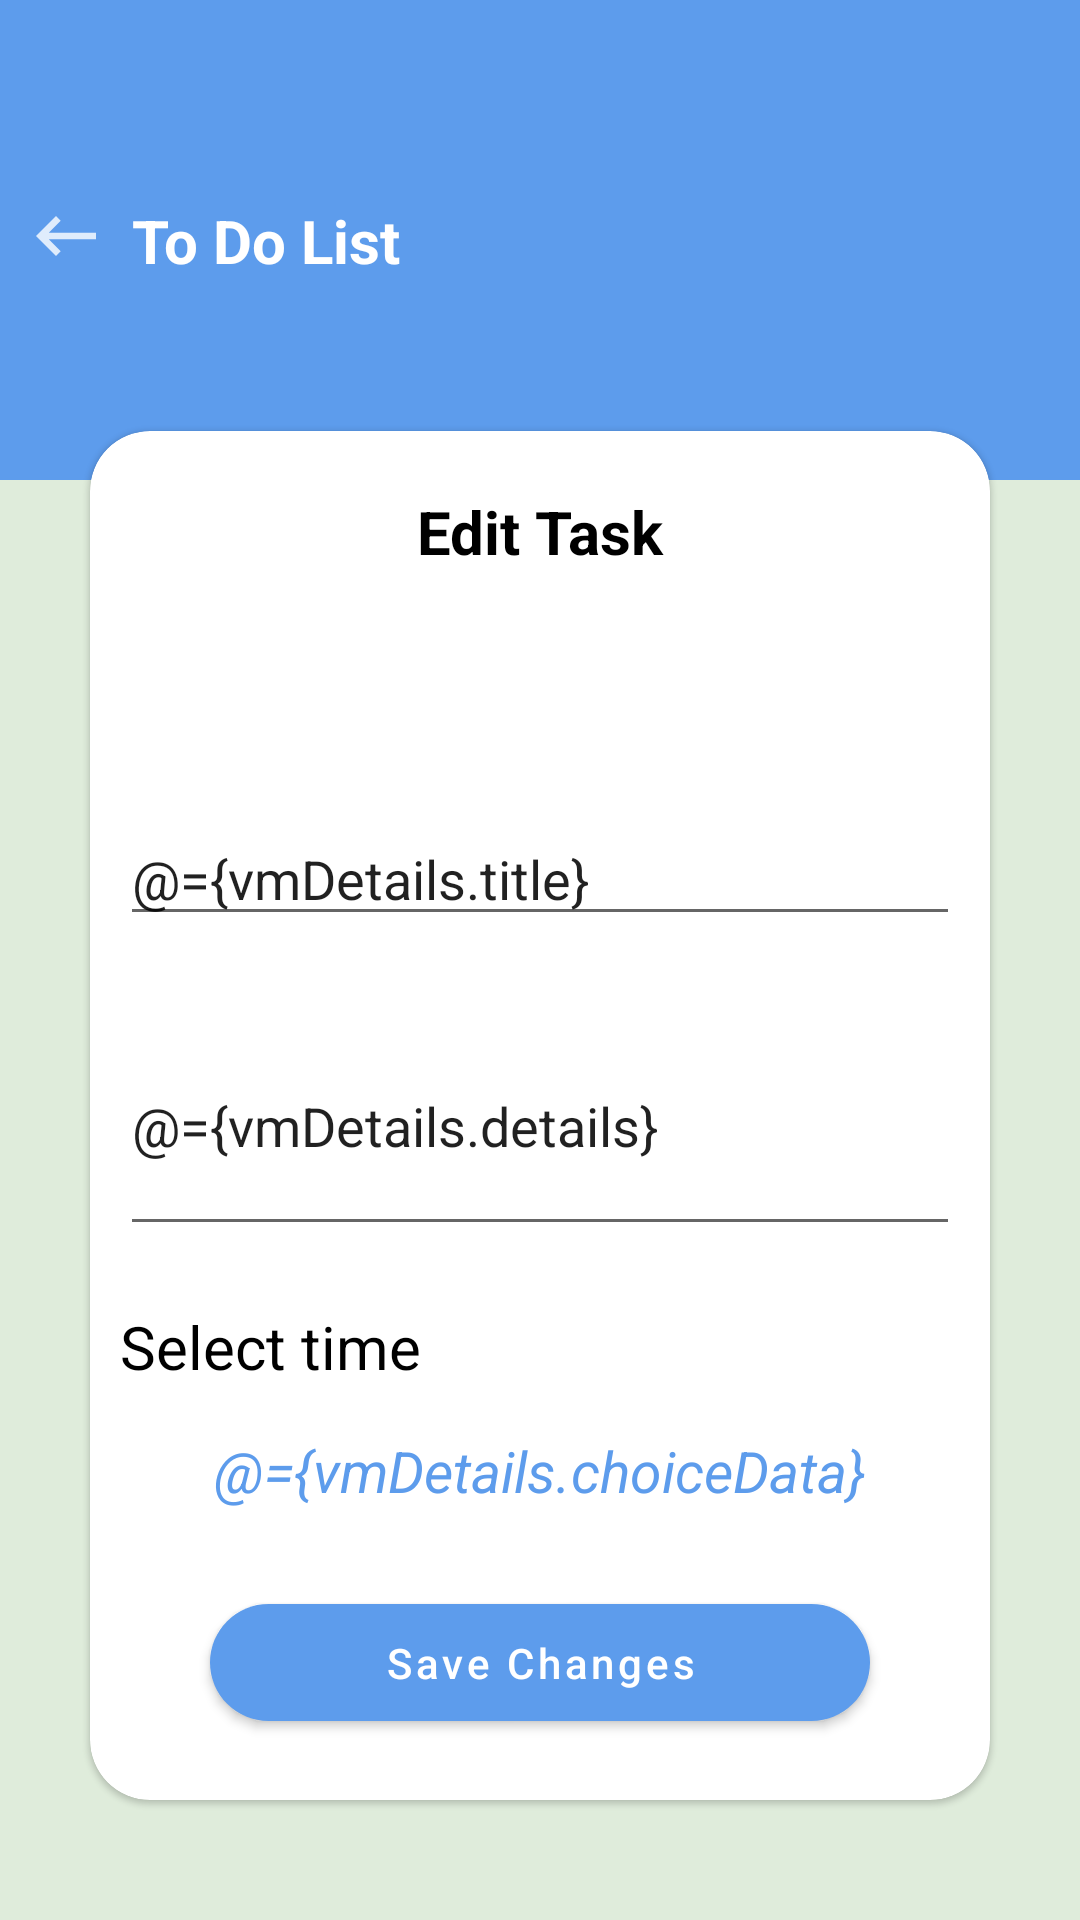

Named icons in this screenshot (1080 x 1920) and their bounding boxes, (x1, y1, x2, y2):
back: (36, 216, 96, 256)
